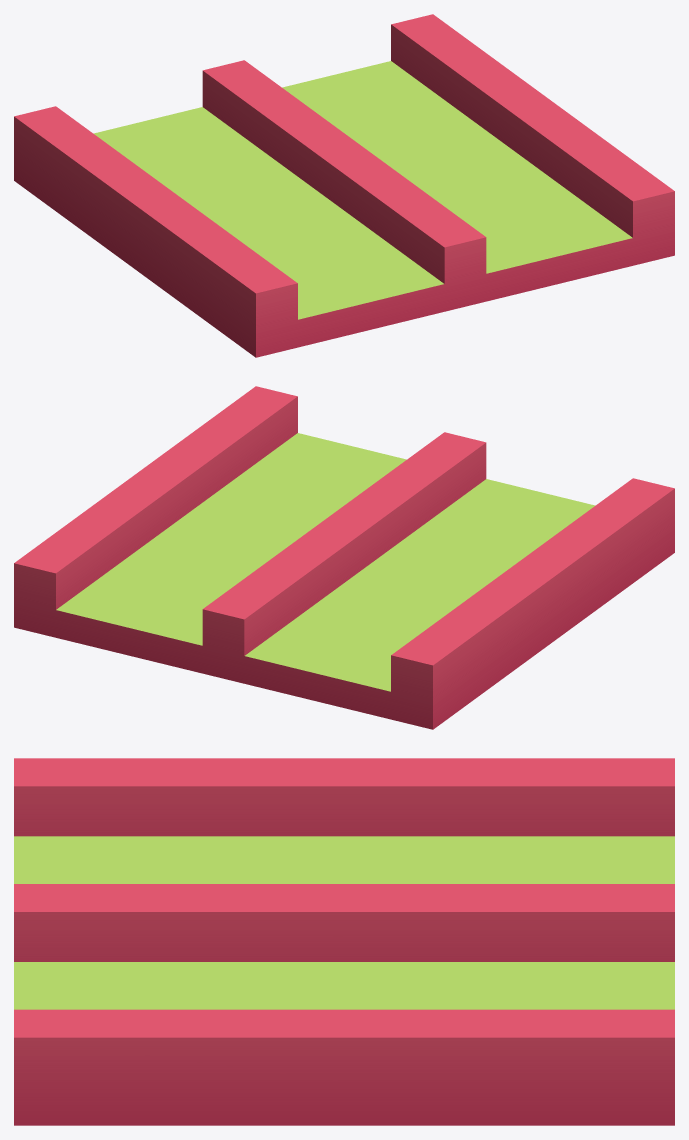
Rendered from split.gltf.
3 views of the same model, one above another, from view 1: azimuth 30°, elevation 25°; view 2: azimuth 150°, elevation 25°; view 3: azimuth 270°, elevation 25° (orthographic). The views are drawn at different scales.
Parts seen in each view (by area): view 1: split; view 2: split; view 3: split.
Part boxes in pixels (bbox=[...]): split: bbox=[14, 14, 674, 357]; split: bbox=[14, 386, 674, 729]; split: bbox=[14, 758, 674, 1125].
Size of the model in its own units: 0.9999 by 0.1467 by 0.9999.
Materials: 1 (1 with a texture image).
